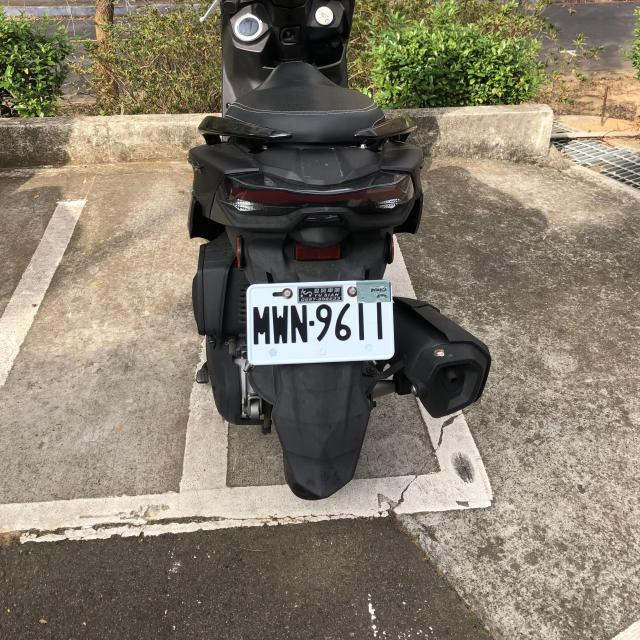W: (246, 279, 394, 364)
